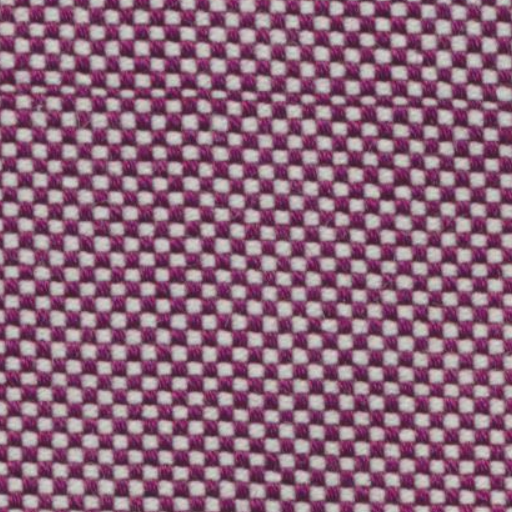TuoSha: (10, 66, 488, 138)
